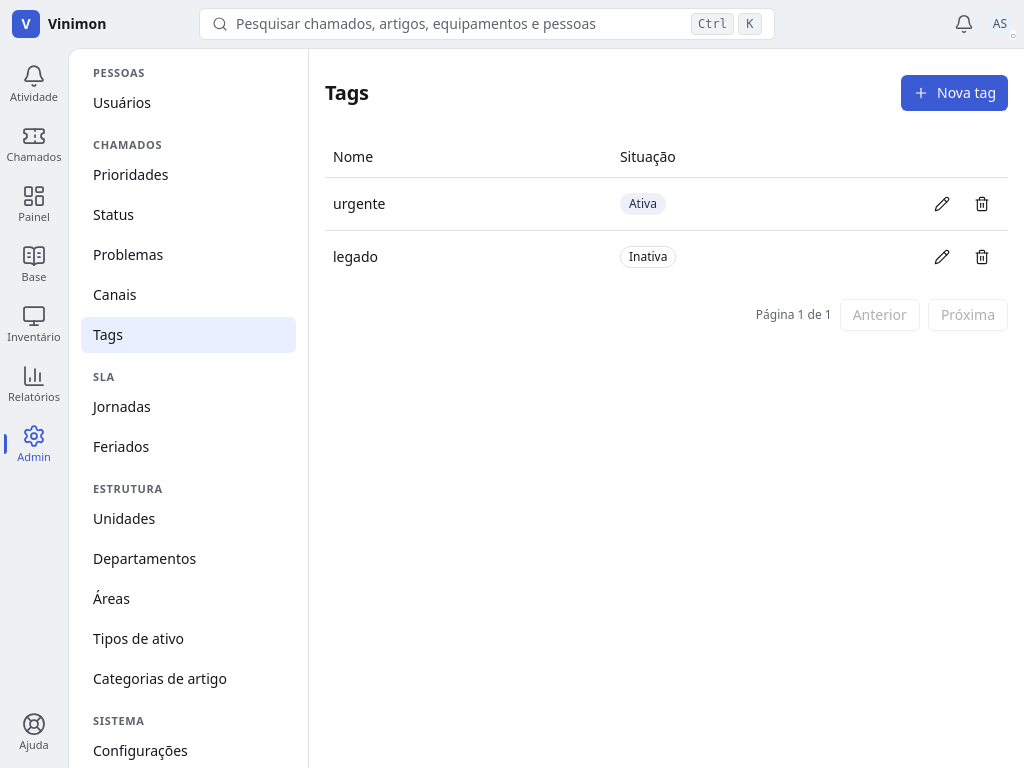
/admin/tags › (b) excluir confirma e faz DELETE /tags/:id
Click the button named "Excluir urgente".
click(982, 204)  # box [964, 186, 1000, 222]
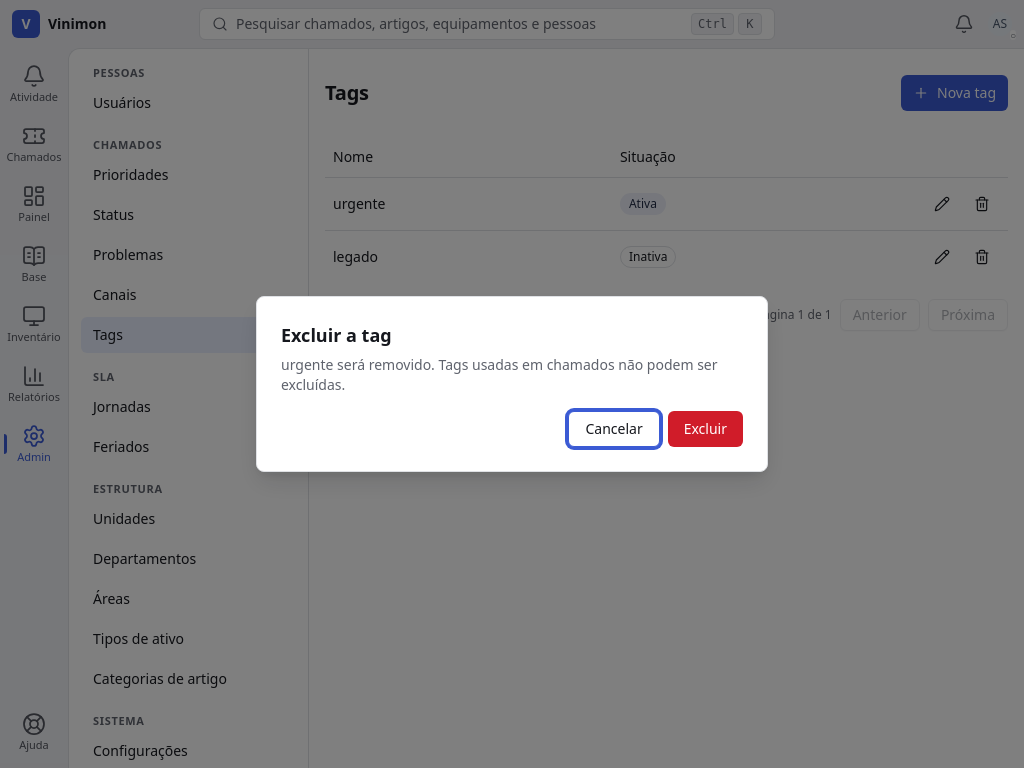
Click the button "Excluir".
click(705, 429)  # box [668, 411, 743, 447]
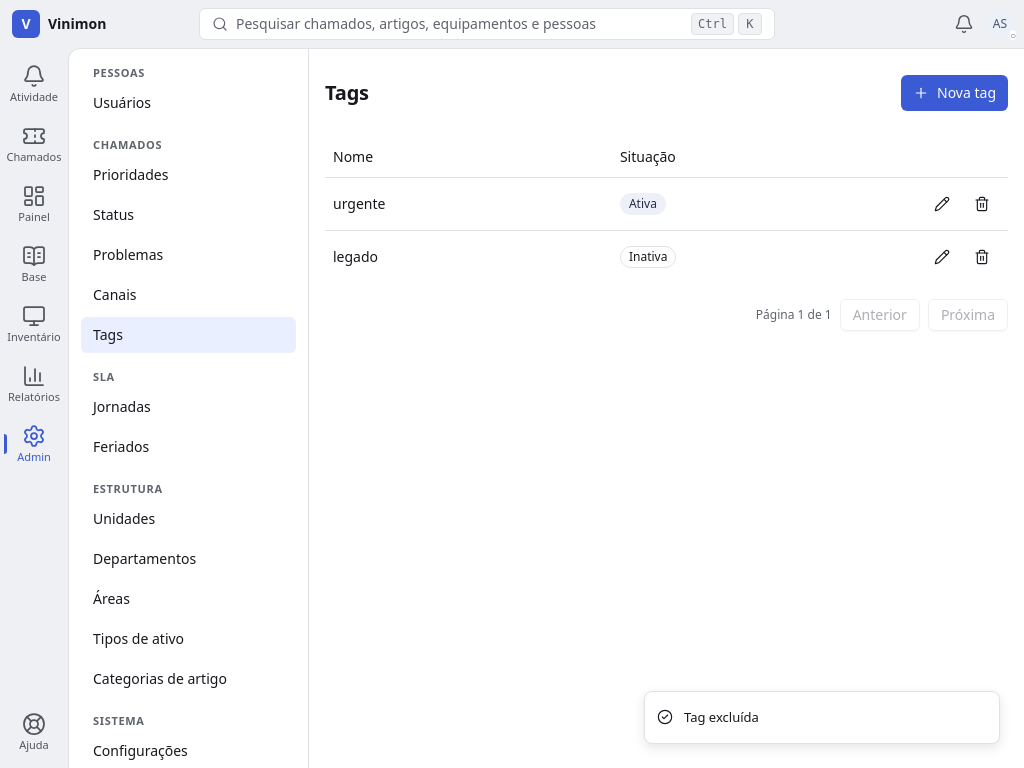
Check: the text "Tag excluída" is shown, box [684, 708, 759, 727]
